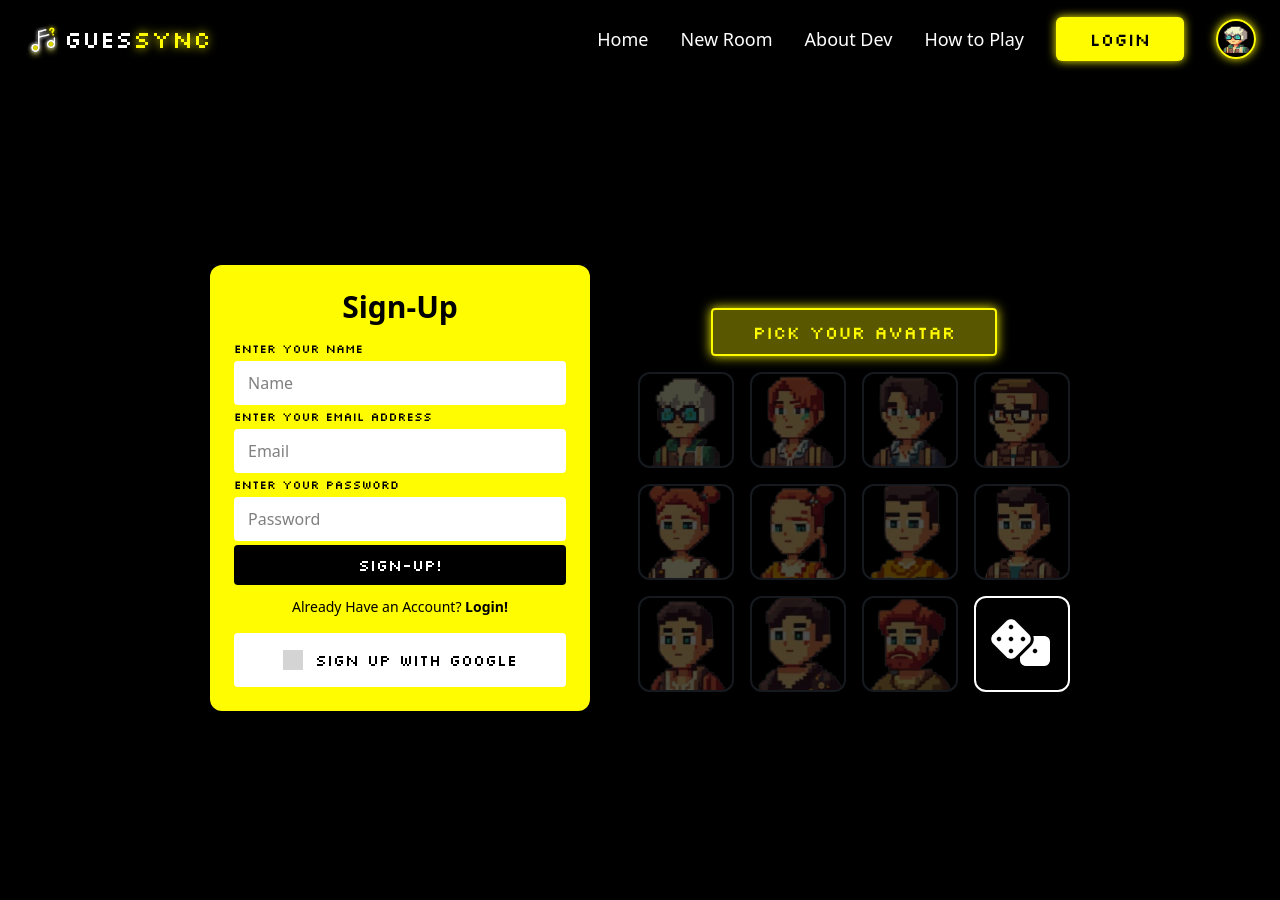
Test: Signup Page › 6. Shows avatar error if none selected for Google signup
Click the button "Sign Up With Google" at {"x": 400, "y": 660}, box [234,633,566,687]
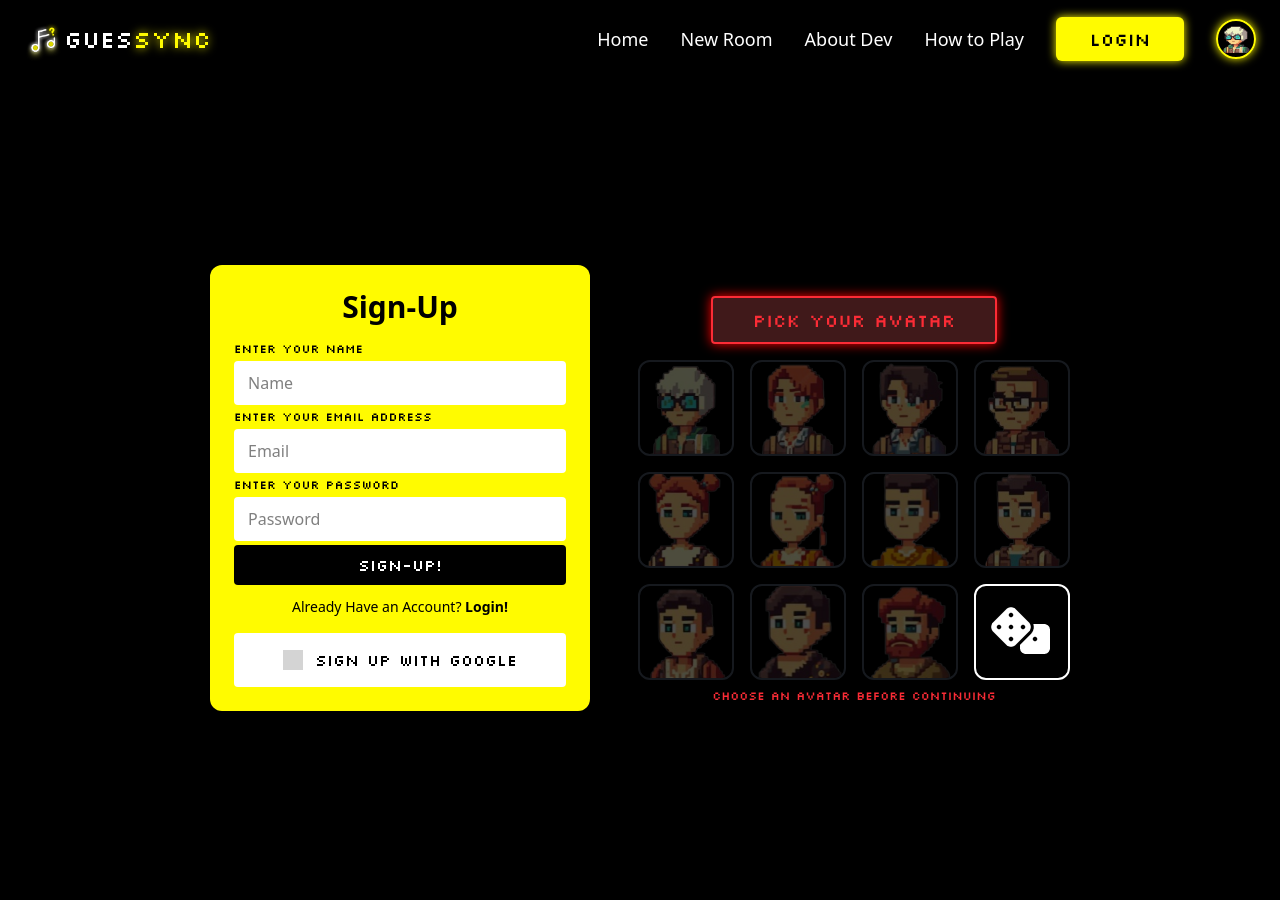
expect the text "Choose an avatar before continuing" is shown: met, box [712,688,996,704]
